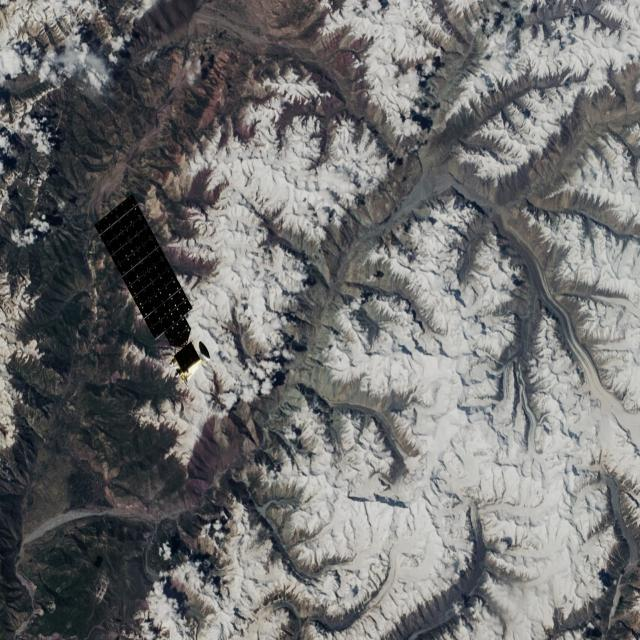medium_debris: (96, 192, 220, 384)
